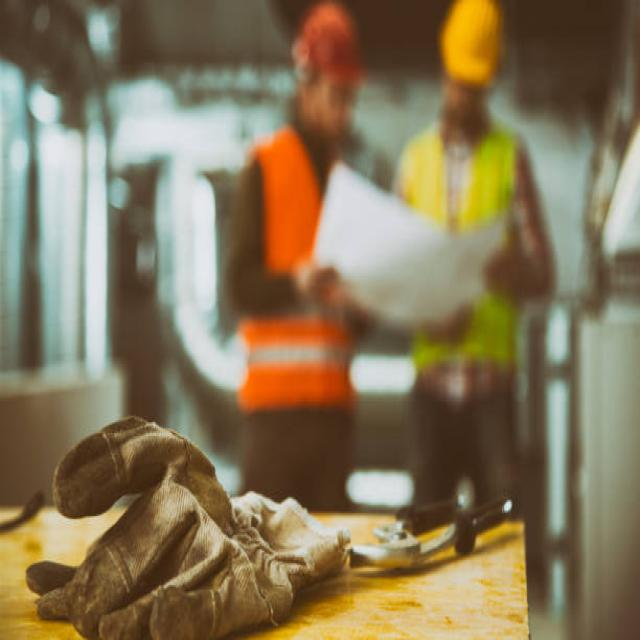gloves: (17, 412, 353, 640)
